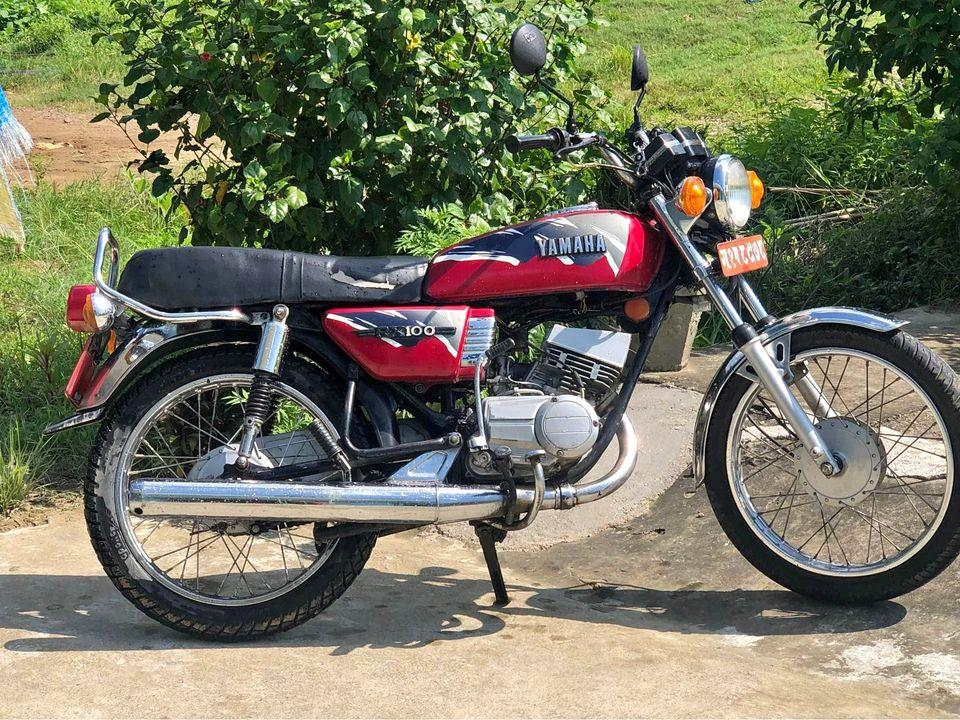bike: (50, 24, 960, 658)
